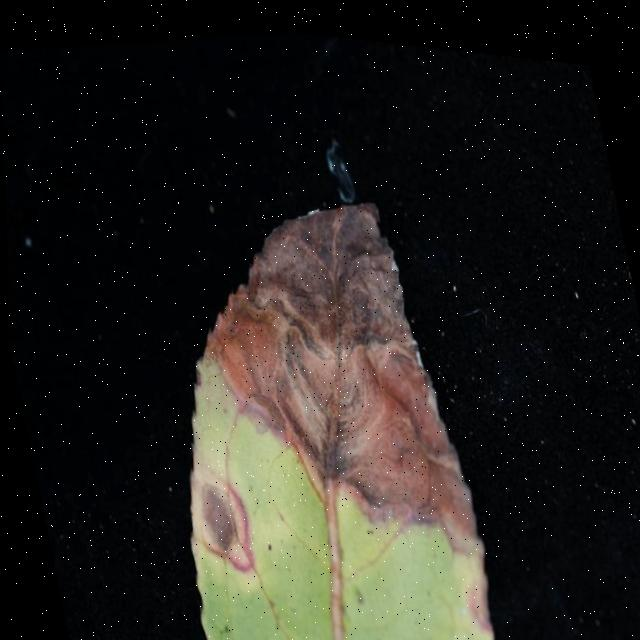Tea cloud leaf blight: (182, 163, 516, 551)
